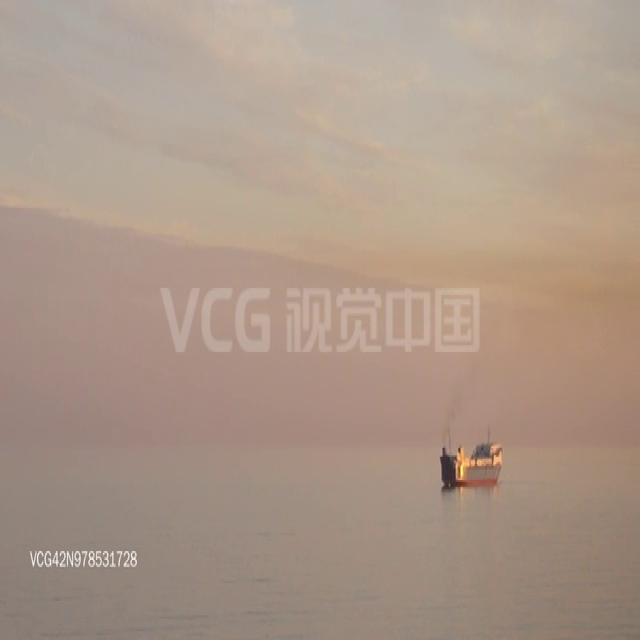cargoship: (440, 420, 505, 487)
